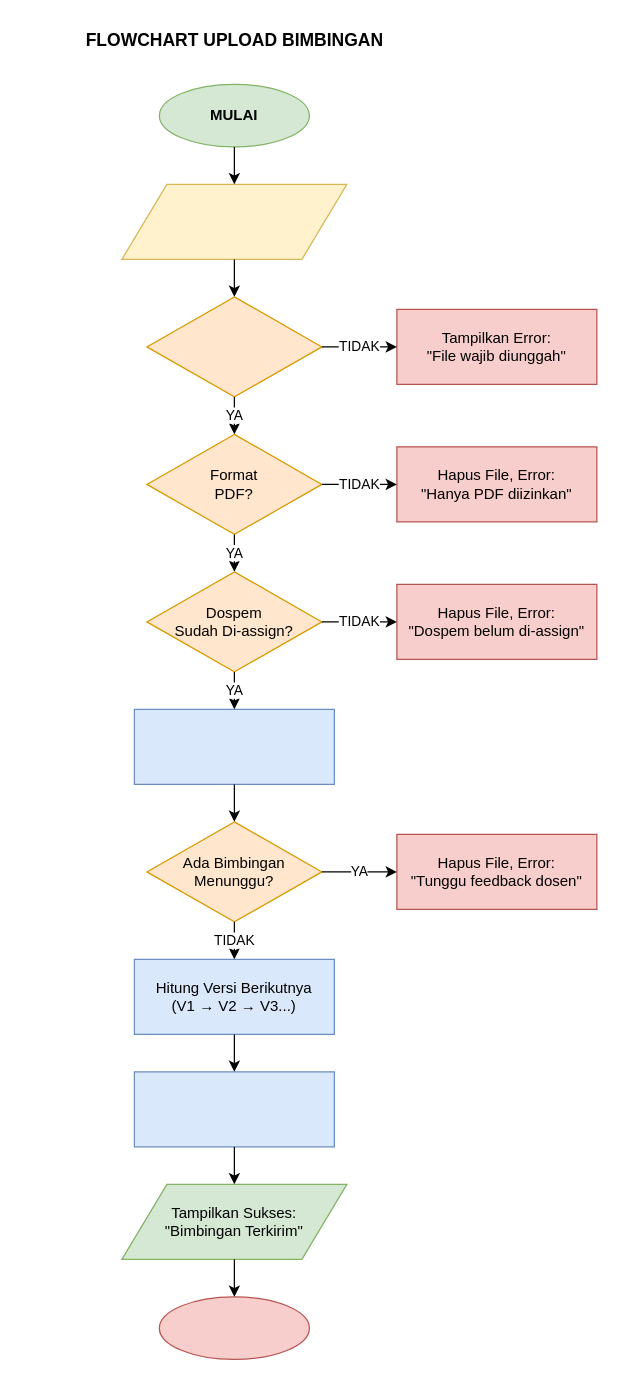
Image size: 619x1381. Some labels were removed from this diagram. The shapes that lost their labels are listed below. From the top down, each one's box as (x1, y1, x2, y2) in pixels, then its label:
(121, 183, 347, 259): Input: Judul, File PDF, Catatan, Pilih Dospem
(146, 296, 322, 397): File Diunggah?
(133, 708, 334, 784): Cek Bimbingan Pending (Status = Menunggu)
(133, 1071, 334, 1147): Simpan Bimbingan ke Database
(158, 1296, 309, 1359): SELESAI
